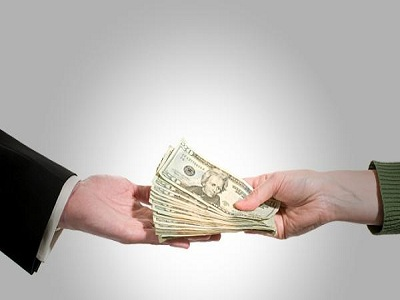billete: (148, 136, 286, 246)
